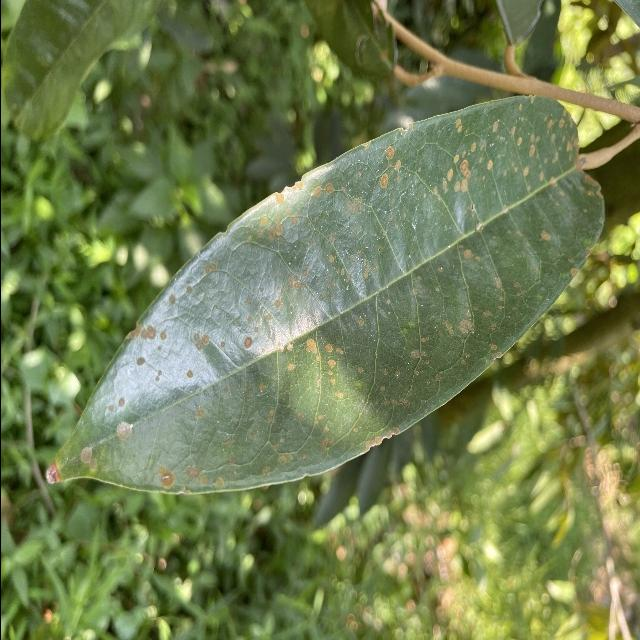Algal Leaf Spot: (25, 85, 611, 510)
